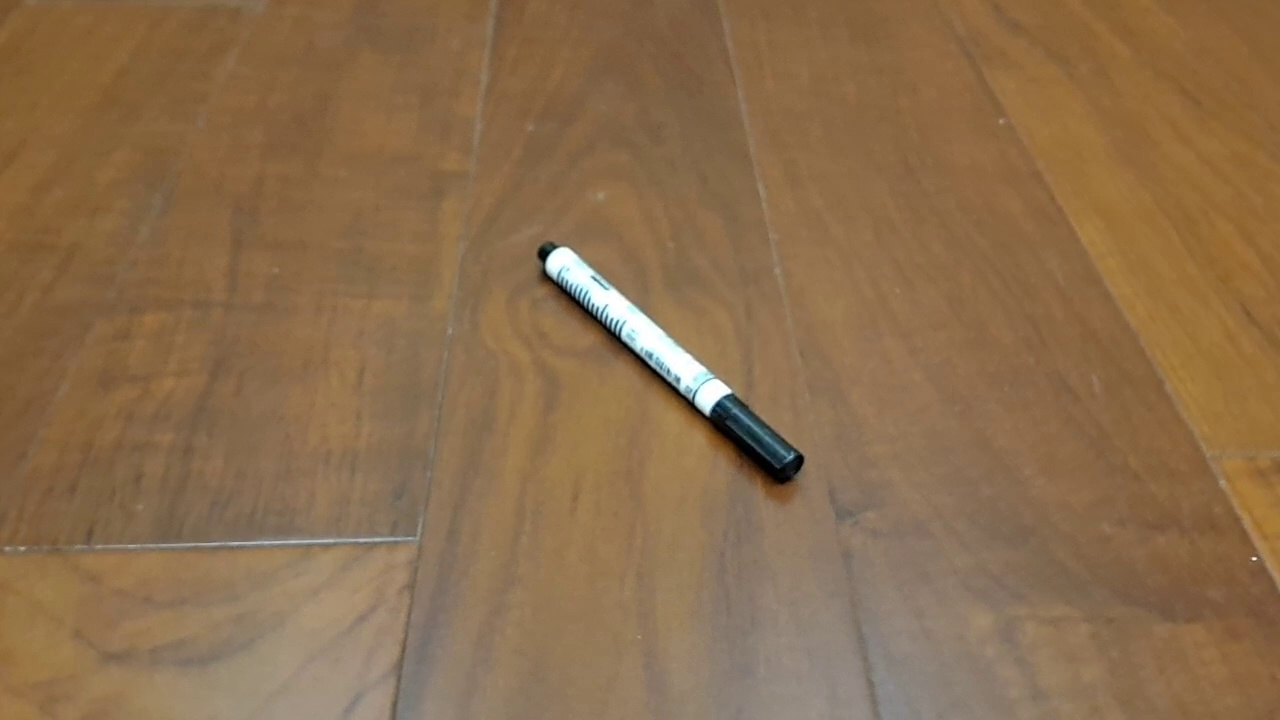pen: (535, 239, 805, 485)
